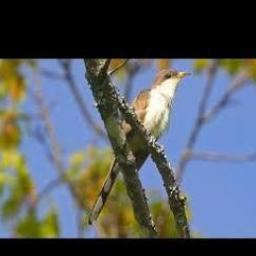Cuckoo: (89, 69, 192, 225)
